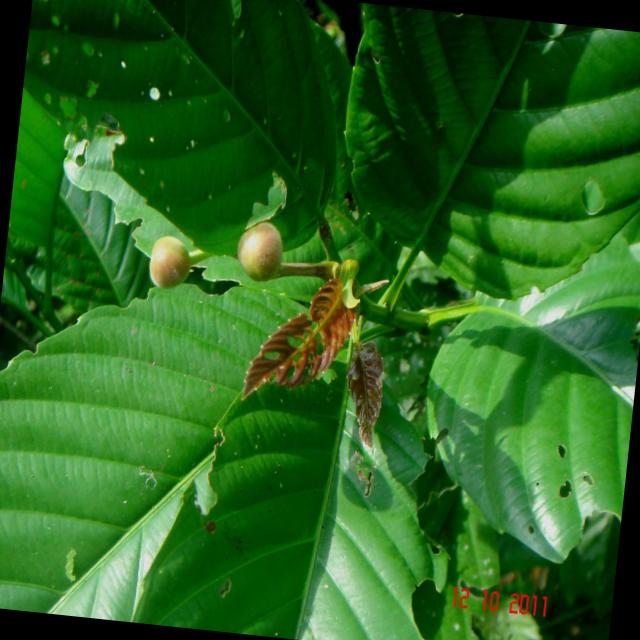Simpoh-Lak: (141, 206, 348, 308), (226, 215, 294, 282), (145, 223, 200, 294)
